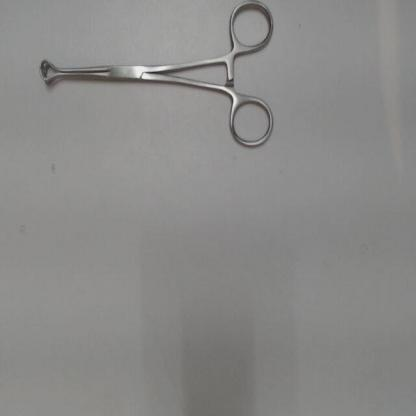Babcock Tissue Forceps: (34, 2, 279, 157)
